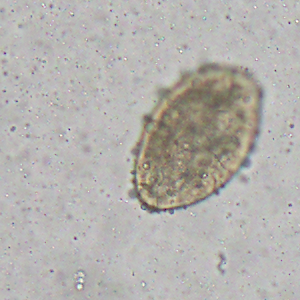Fasciola_hepatica_egg: (129, 62, 264, 214)
